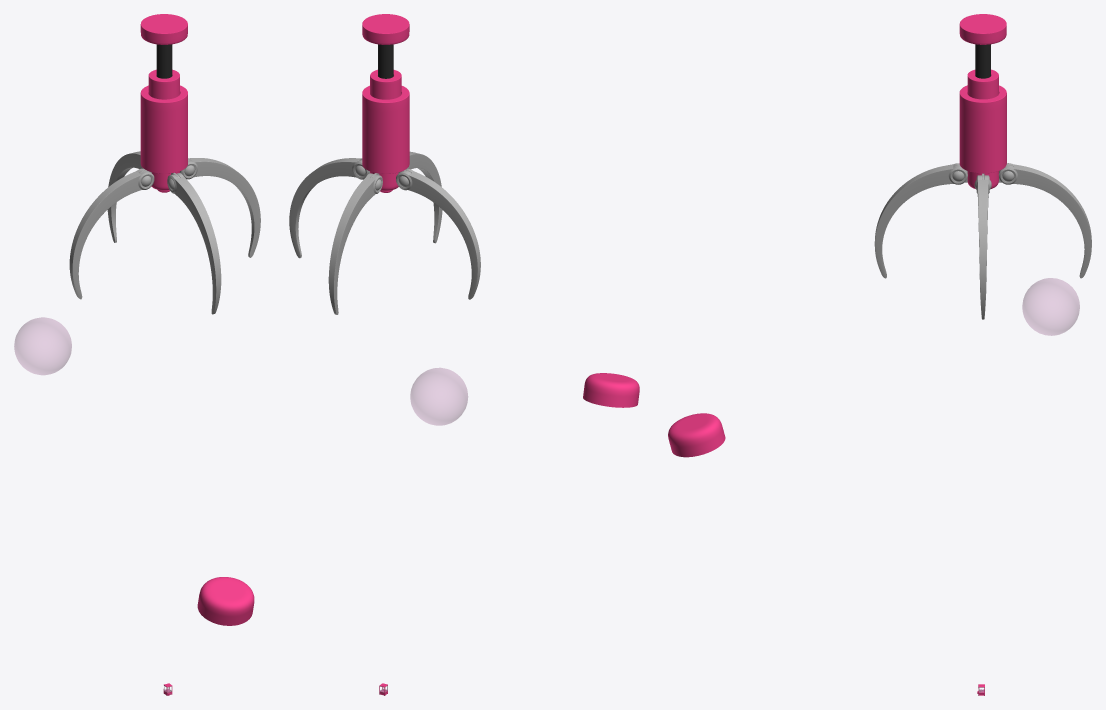
The model's file is ballTake_sprite_reserve3.glb.
3 renders of one model, left to right at view 1: azimuth 30°, elevation 25°; view 2: azimuth 150°, elevation 25°; view 3: azimuth 270°, elevation 25°, orthographic.
Visible parts, largest first — view 1: Button; view 2: Button; view 3: Button.
Boxes of the visible parts, x1=… form: Button: x1=14, y1=14, x2=260, y2=625; Button: x1=289, y1=14, x2=639, y2=425; Button: x1=668, y1=14, x2=1091, y2=457.
Size of the model in its own units: 1694 by 5234 by 3004.
